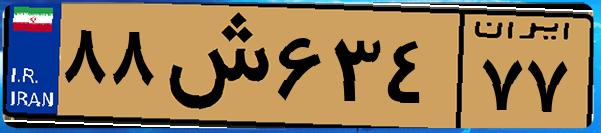3: (330, 28, 385, 110)
4: (385, 28, 445, 110)
6: (270, 28, 330, 110)
7: (475, 38, 525, 113), (525, 38, 570, 115)
8: (57, 26, 110, 100), (110, 28, 158, 98)
ش: (158, 12, 270, 120)
